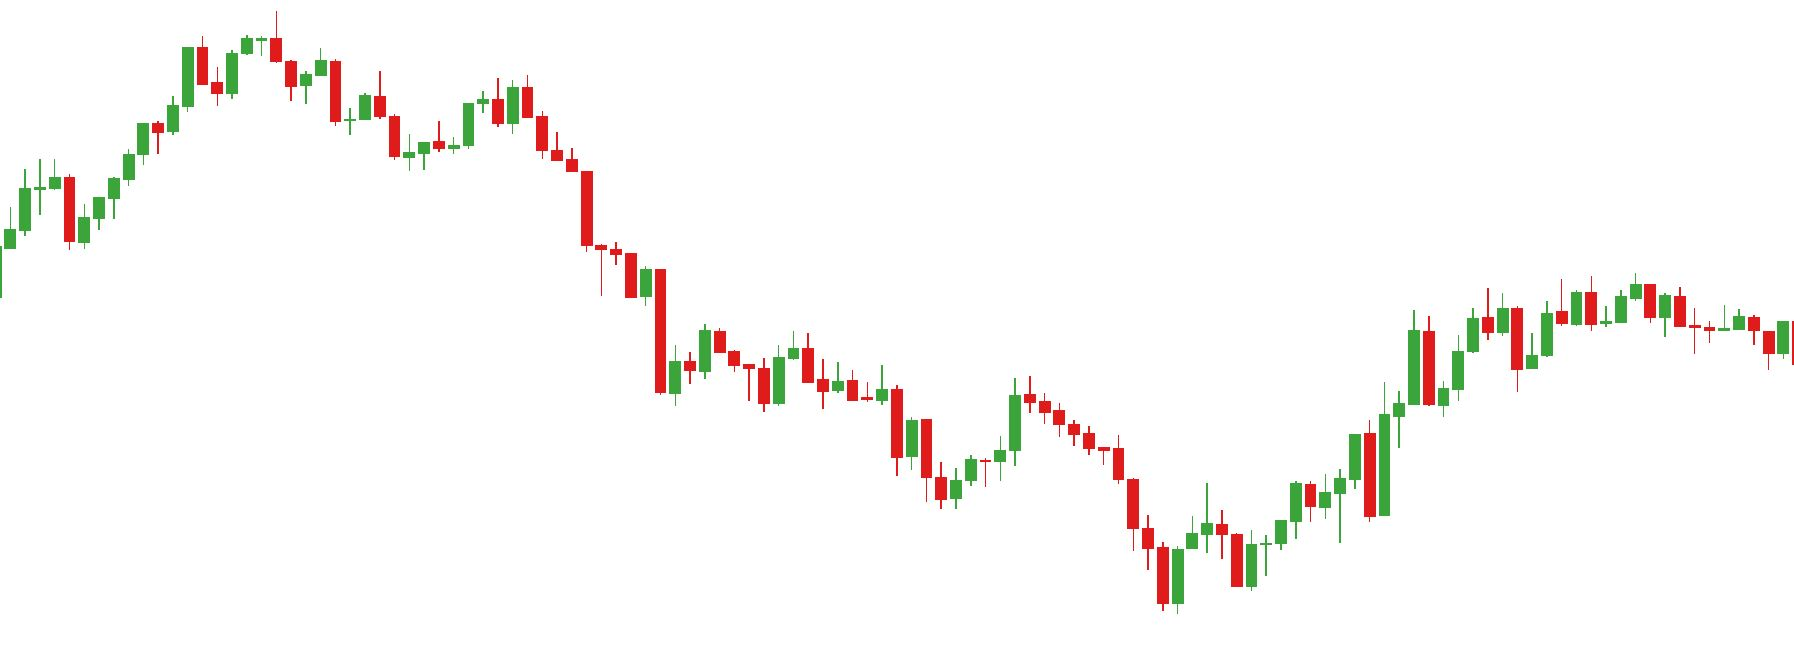sell: (178, 9, 287, 87)
